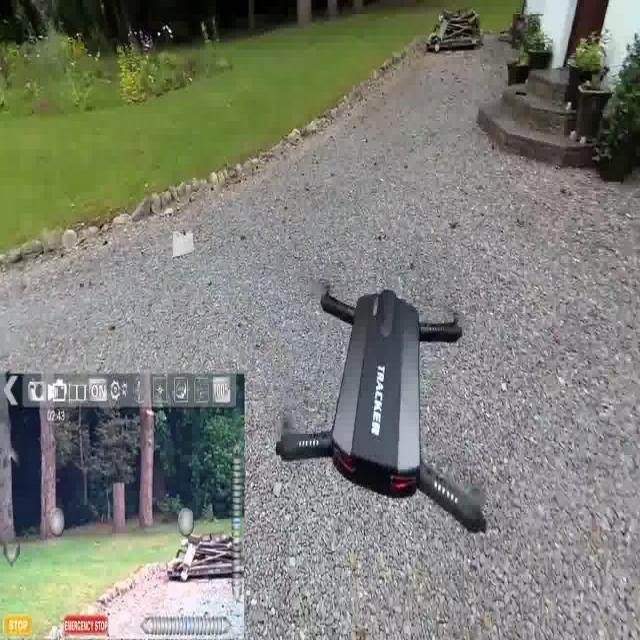Drone_FW: (275, 286, 487, 534)
